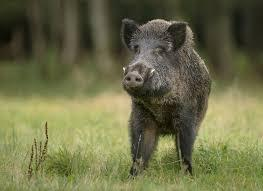wildboar: (118, 15, 215, 177)
